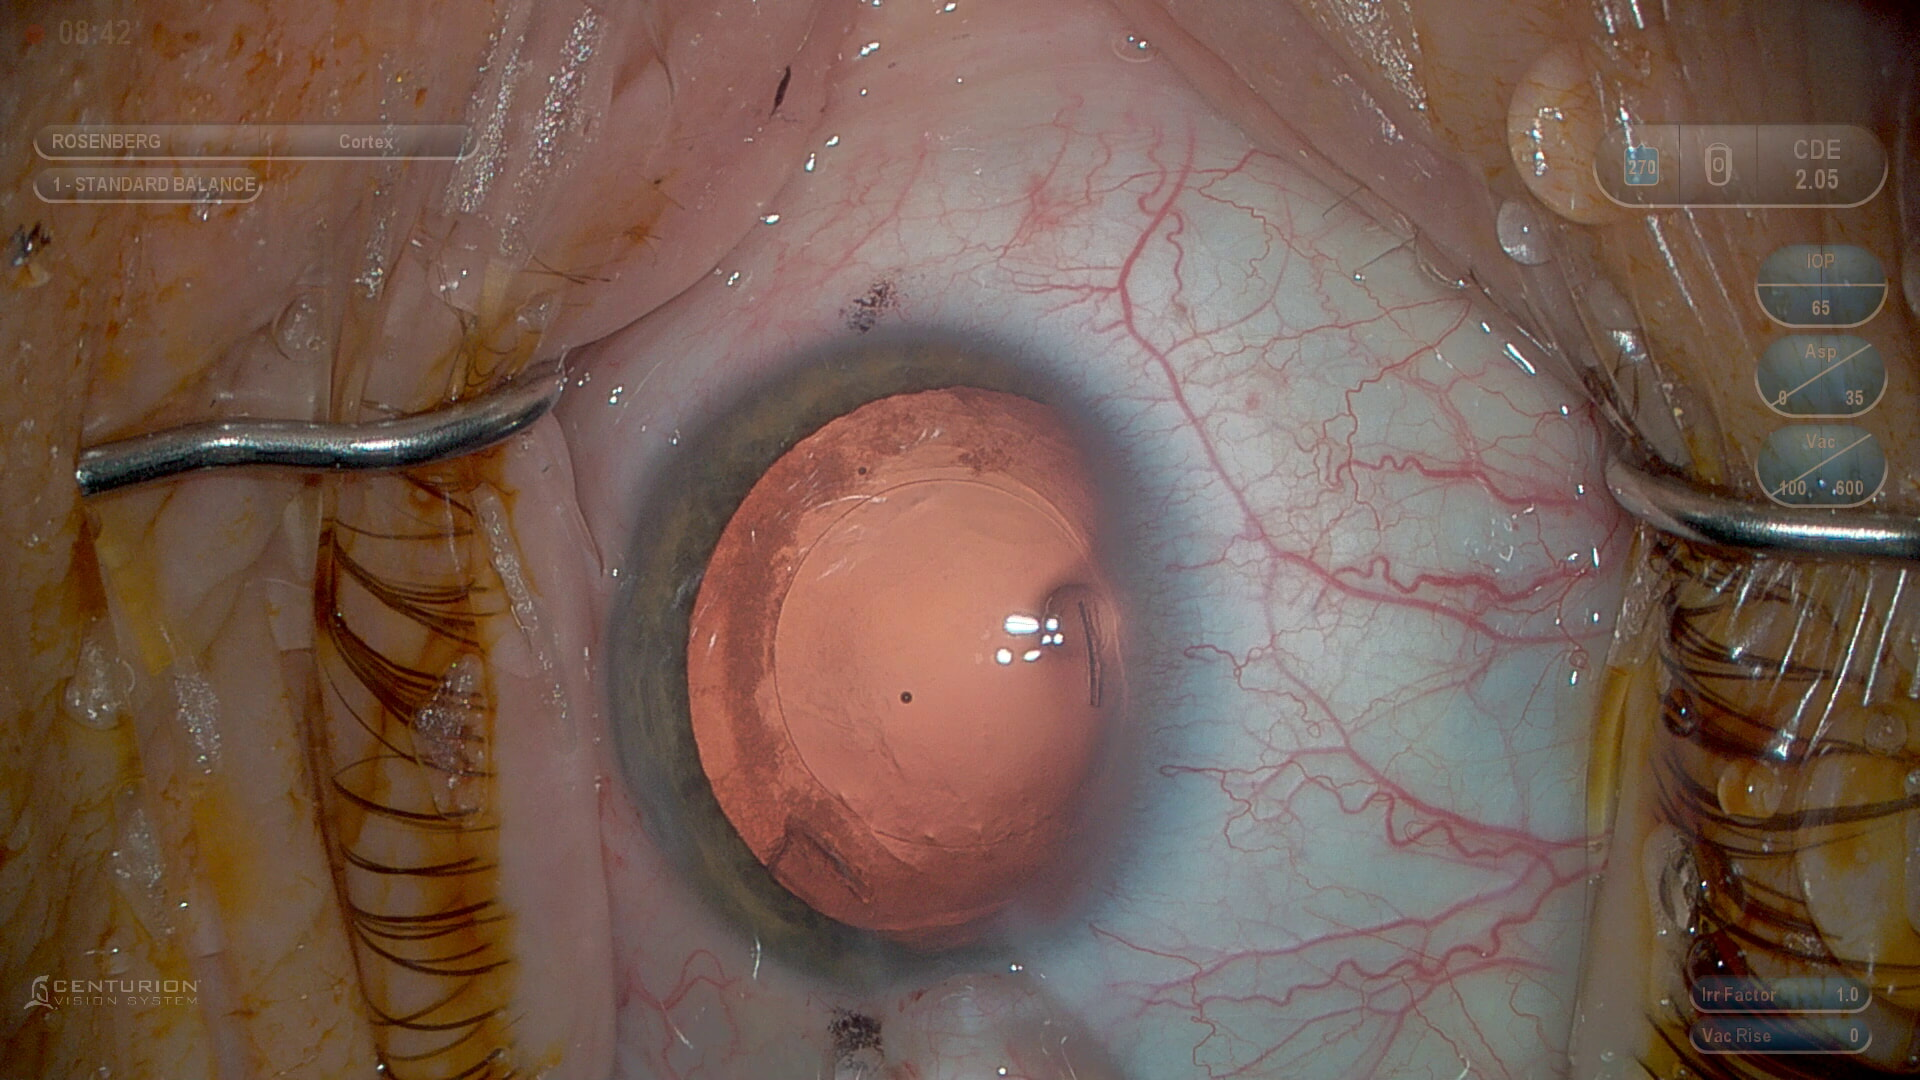iris: (611, 336, 1177, 985)
pupil: (689, 387, 1145, 938)
